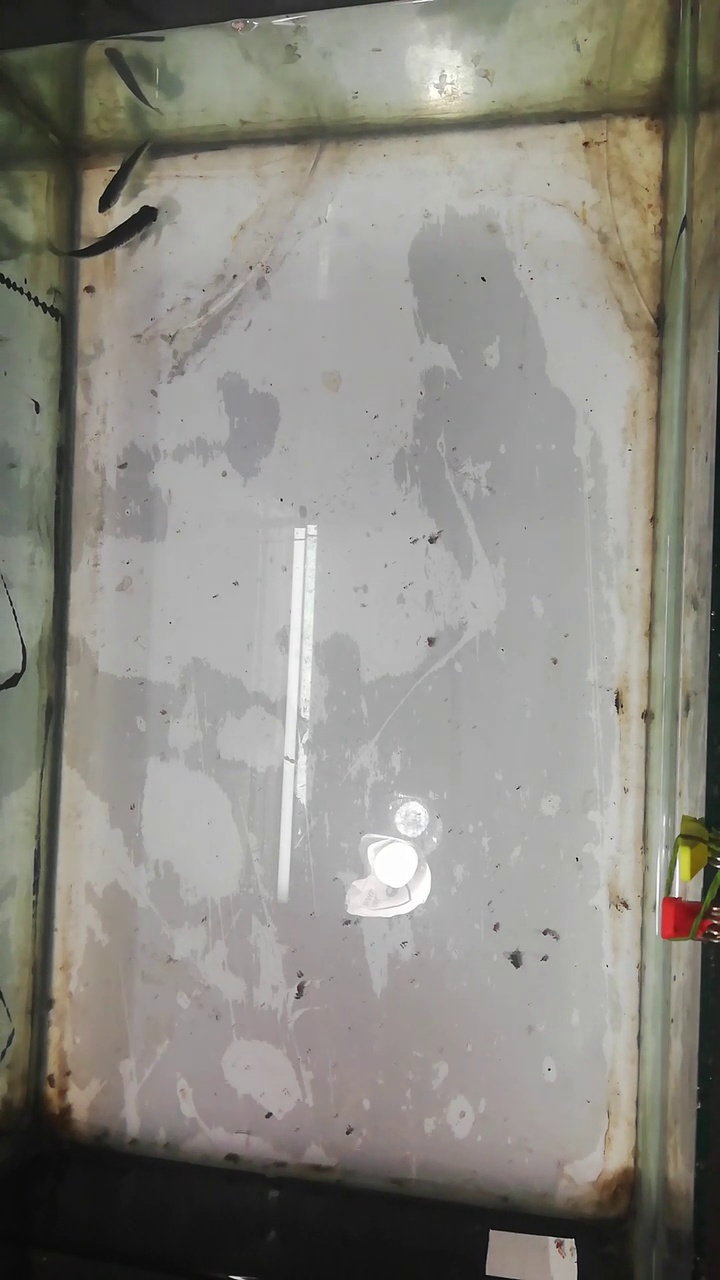fish1: (49, 207, 160, 256)
fish2: (96, 138, 148, 213)
